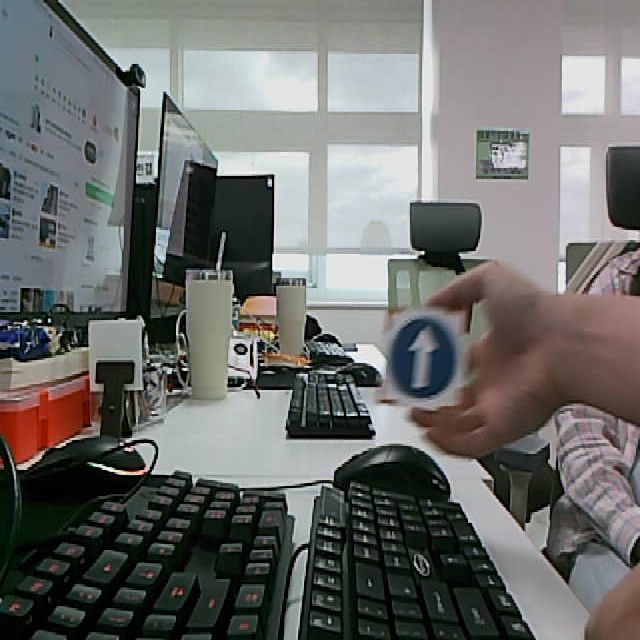straight: (376, 306, 468, 418)
